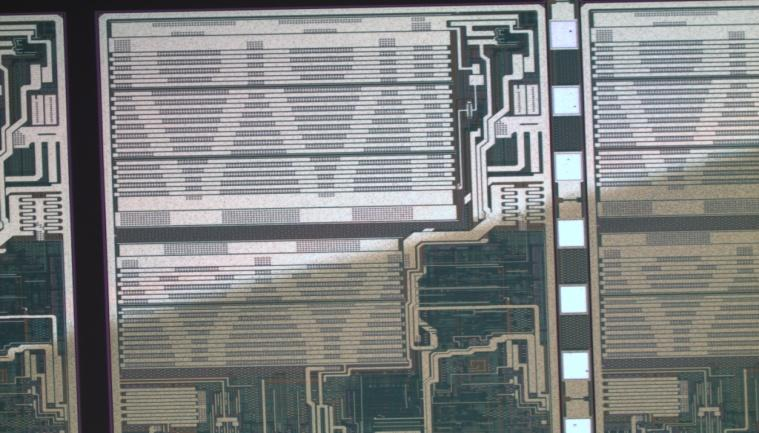COATING BAD: (1, 1, 759, 365)
